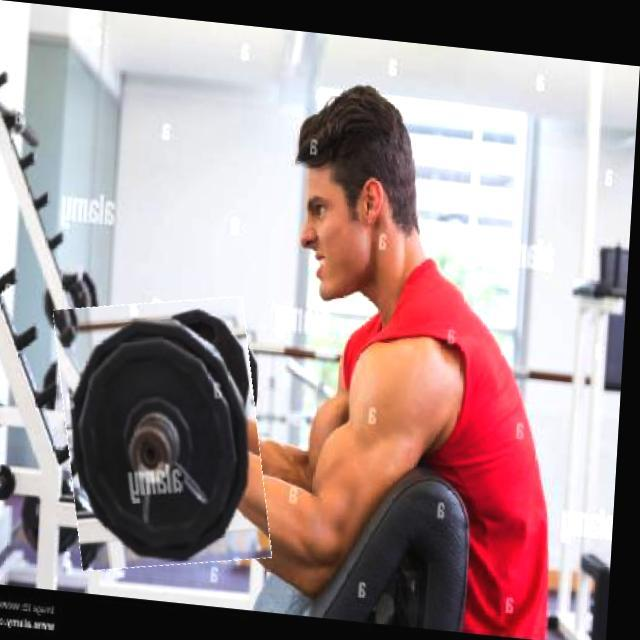barbell: (57, 285, 280, 577)
